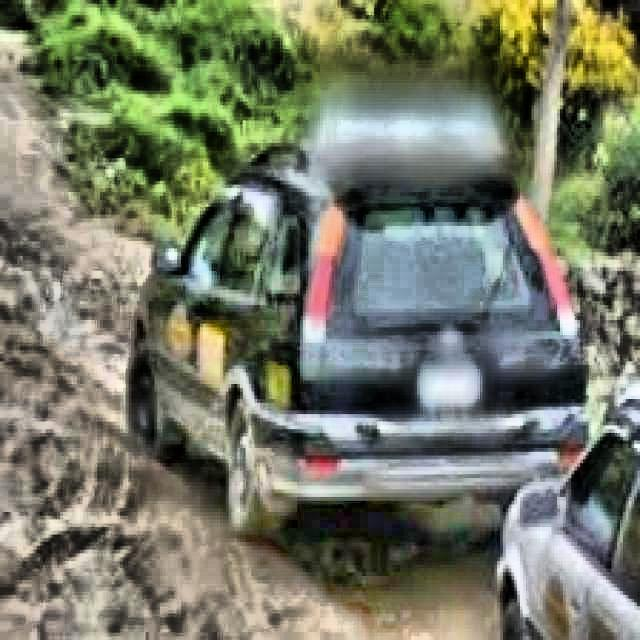carro: (132, 122, 587, 530)
